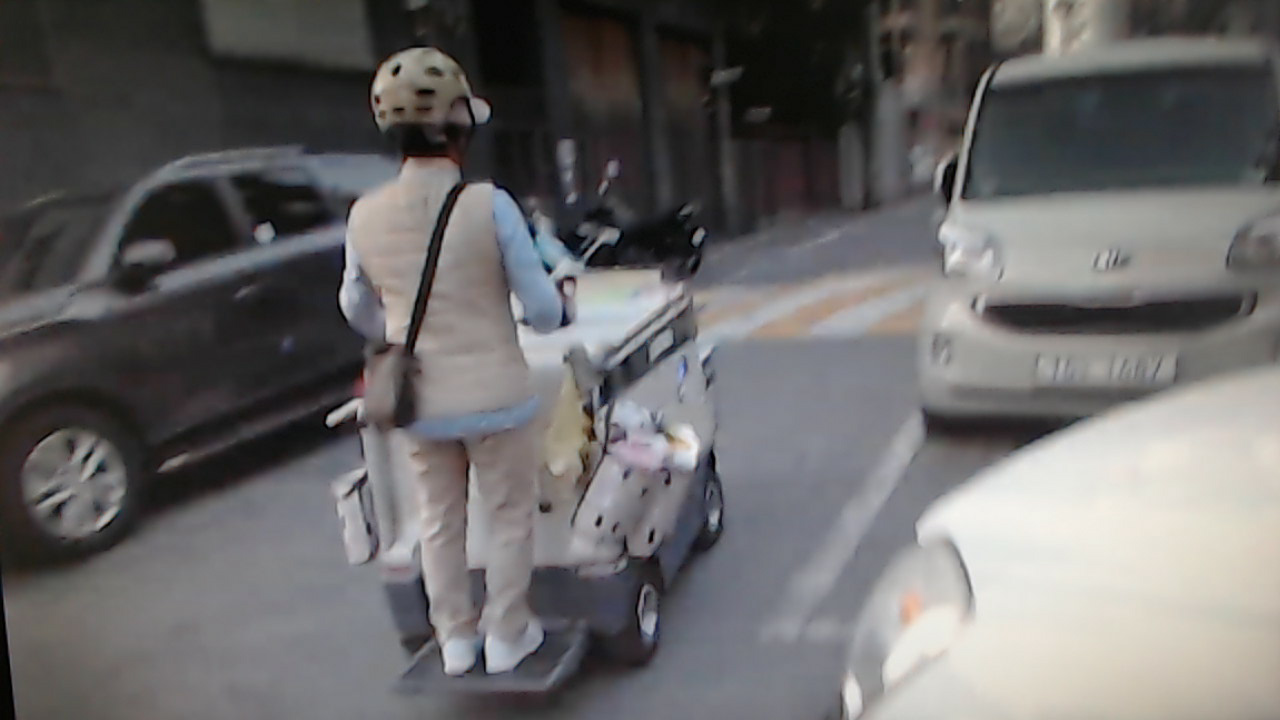Yakurut: (319, 44, 590, 686)
